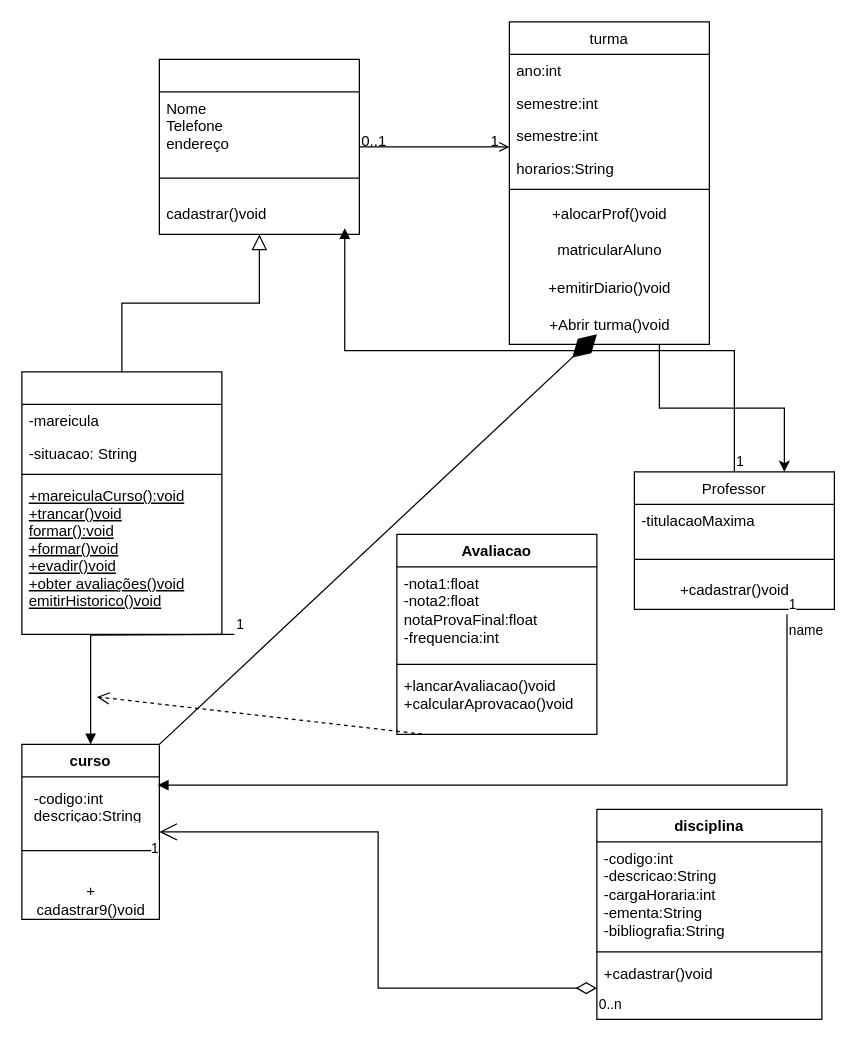
The diagram is 856 pixels wide and 1045 high, and some of its shapes have lost their labels. The box of each missing label's shape, as (x1, y1, x2, y2) in pixels:
Aluno: (21, 371, 222, 634)
pessoa: (158, 58, 359, 234)
